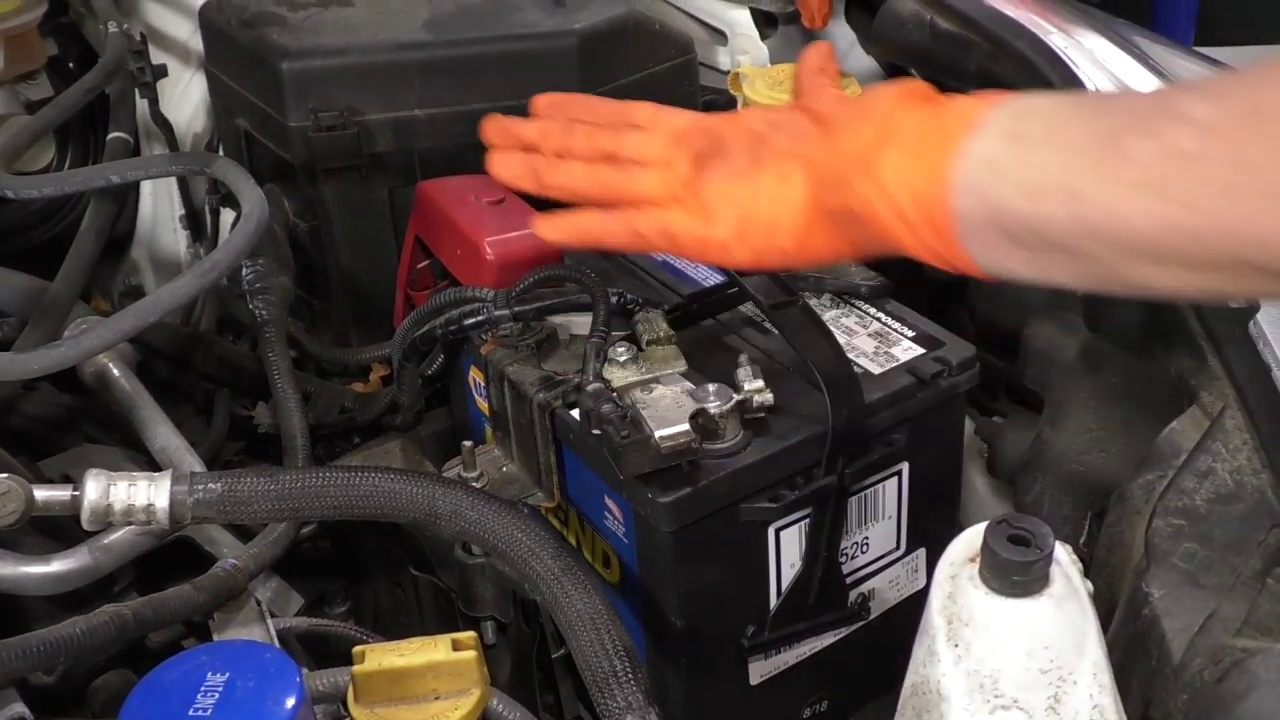battery: (412, 193, 979, 500)
neg_connected: (618, 358, 798, 468)
pos_connected: (379, 151, 550, 326)
